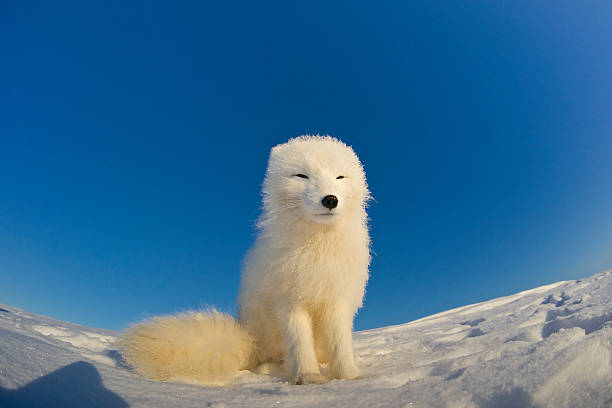arcticfox: (283, 136, 367, 249)
